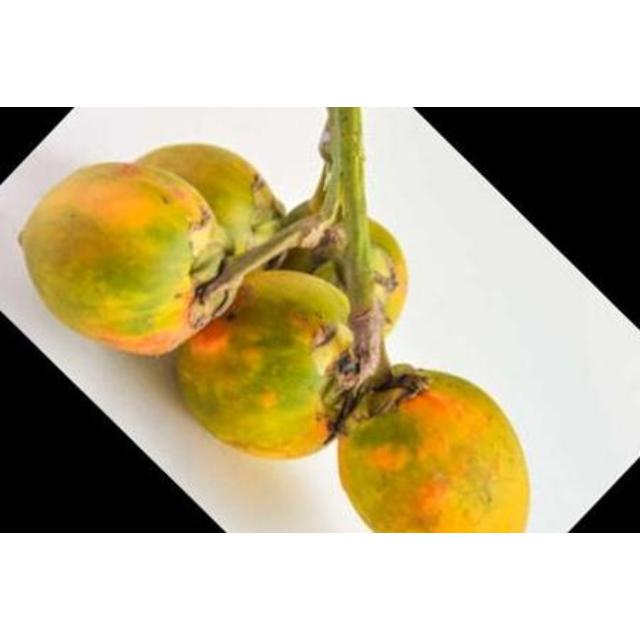good: (18, 145, 269, 357), (175, 271, 353, 463), (337, 370, 532, 532)
